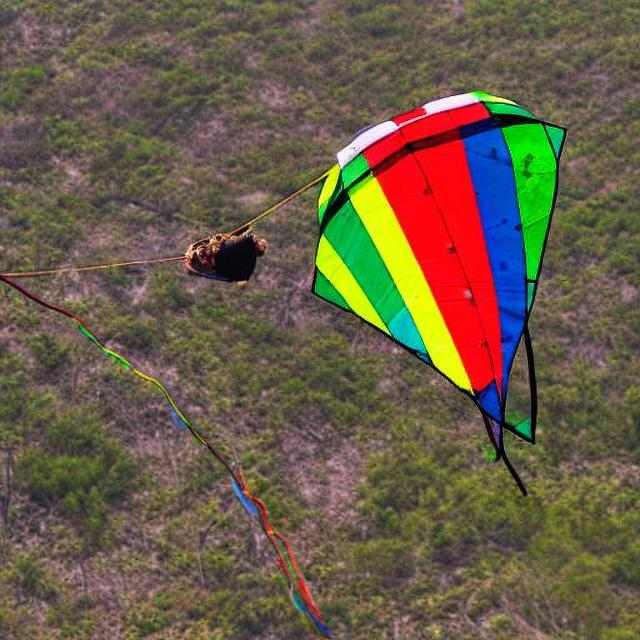floating object: (312, 80, 564, 477), (183, 226, 266, 284)
